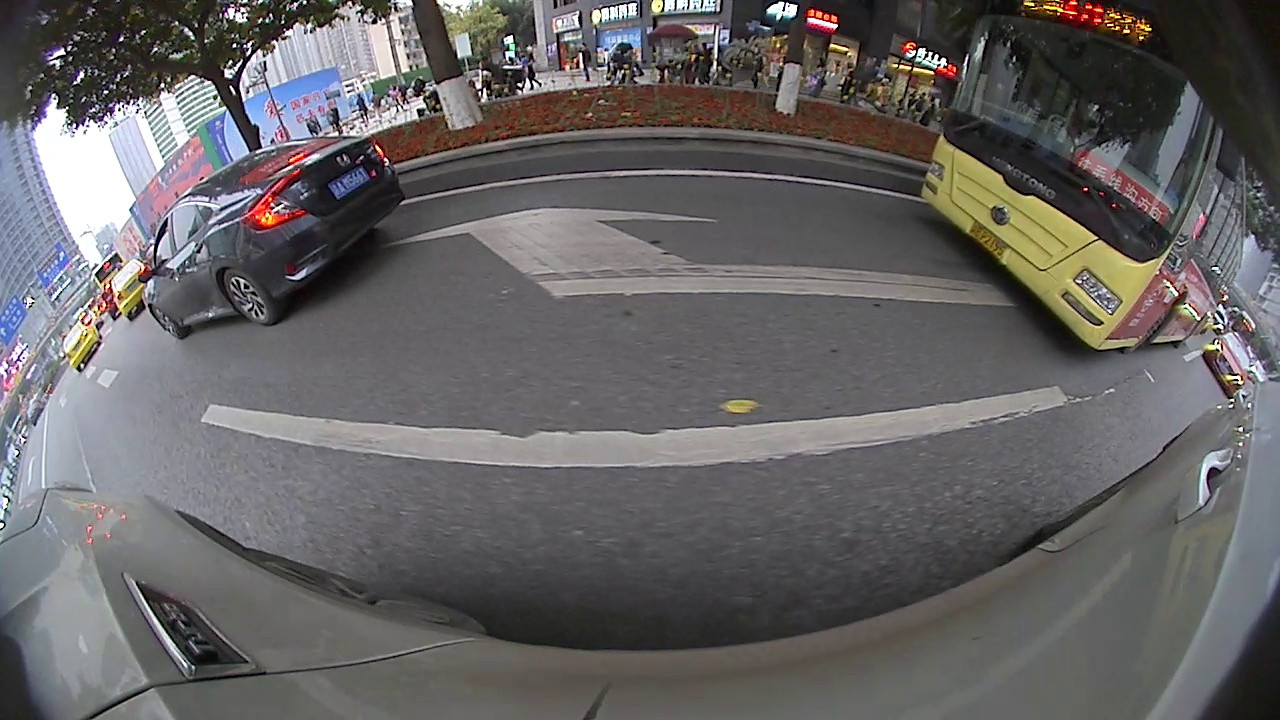bus: (535, 26, 745, 98)
car: (142, 115, 371, 255), (453, 56, 618, 119), (1162, 329, 1232, 421), (685, 68, 793, 121)
front: (266, 169, 306, 210), (441, 102, 470, 124)
rear: (163, 223, 199, 256), (561, 89, 586, 110), (900, 179, 920, 202)
rider: (897, 108, 983, 213)
